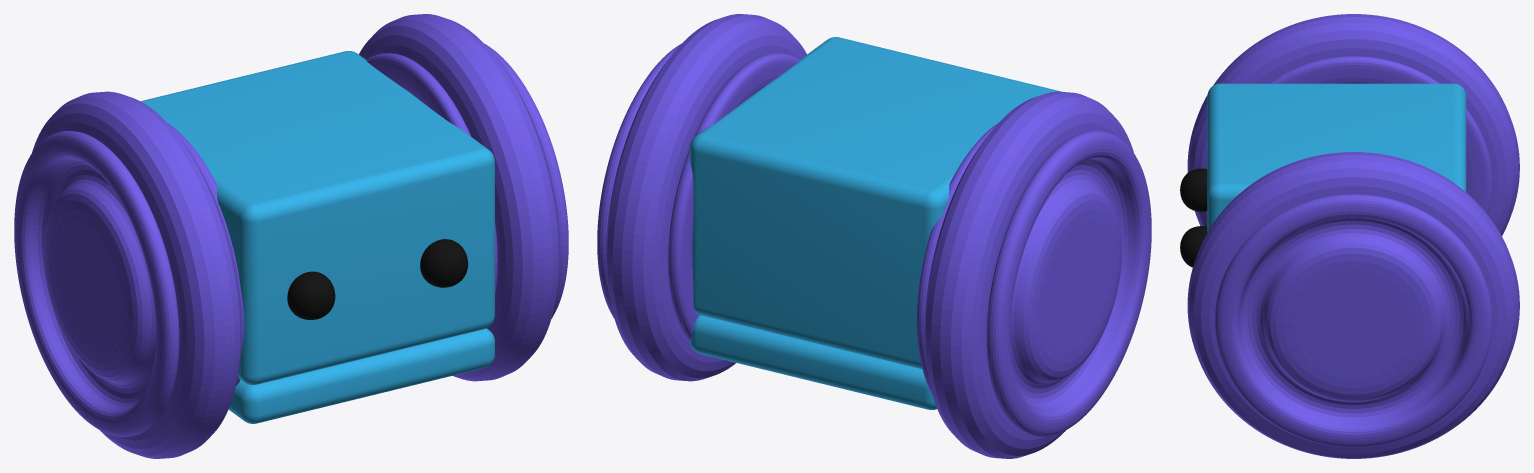
File: Character-1.glb
3 views of the same model, side by side, from view 1: azimuth 30°, elevation 25°; view 2: azimuth 150°, elevation 25°; view 3: azimuth 270°, elevation 25° (orthographic). The views are drawn at different scales.
Parts seen in each view (by area): view 1: Circle, Cube, Cube.001; view 2: Circle, Cube; view 3: Circle, Cube, Cube.001.
Part boxes in pixels (x1,y1,x2,y2): Circle: (14, 14, 568, 458); Cube: (141, 51, 494, 423); Cube.001: (287, 239, 468, 319); Circle: (597, 14, 1151, 458); Cube: (690, 37, 1062, 409); Circle: (1187, 14, 1519, 458); Cube: (1207, 83, 1466, 232); Cube.001: (1180, 168, 1207, 267).
Size of the model in its own units: 3.22 by 2.57 by 2.62.
